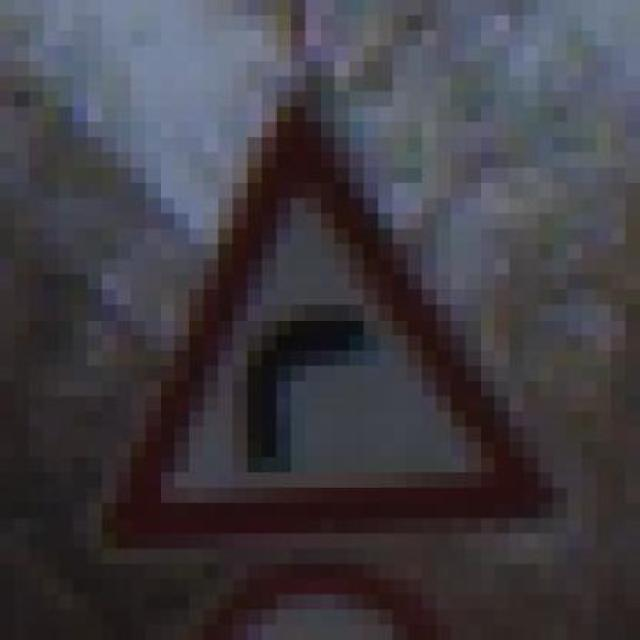Dangerous Rright Curve Ahead: (87, 91, 567, 548)
